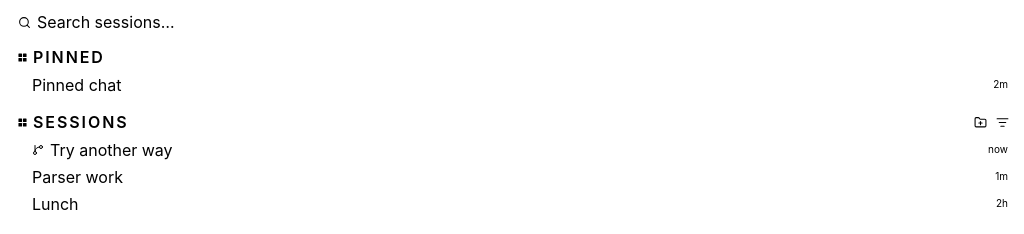
Scenario: sessions sidebar › search finds a pasted id at once and adds the server's hits
This screenshot has width=1024, height=234.
Expected: the button "Lunch 2h" is shown, left=8, top=190, right=1016, bottom=217
Type " s-plain " into the search field named "Search conversations" at (522, 22), box left=37, top=6, right=1006, bottom=39
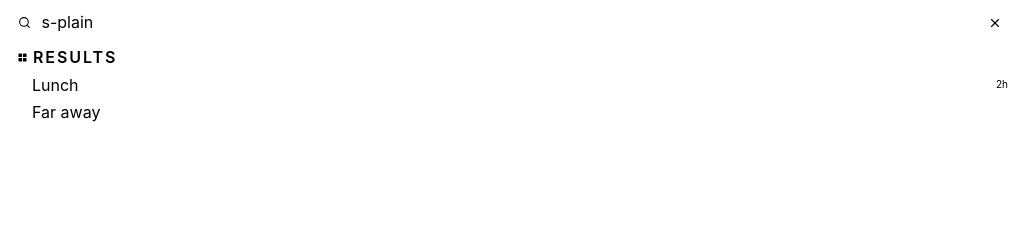
Expected: the button "Lunch 2h" is shown, left=8, top=71, right=1016, bottom=98
Result: the button "Far away" is shown at left=8, top=98, right=1016, bottom=125
Press Escape in the search field, box left=37, top=6, right=978, bottom=39
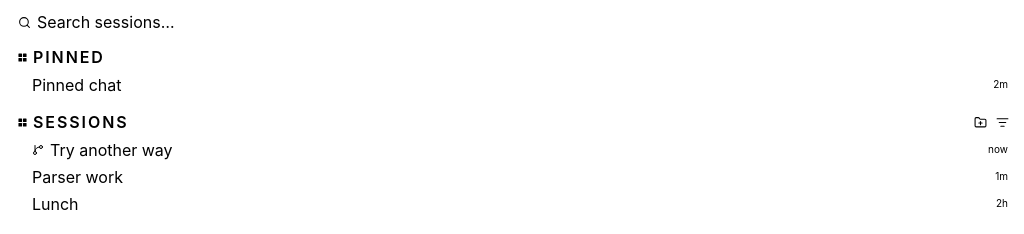
Result: the heading "Results" is gone
